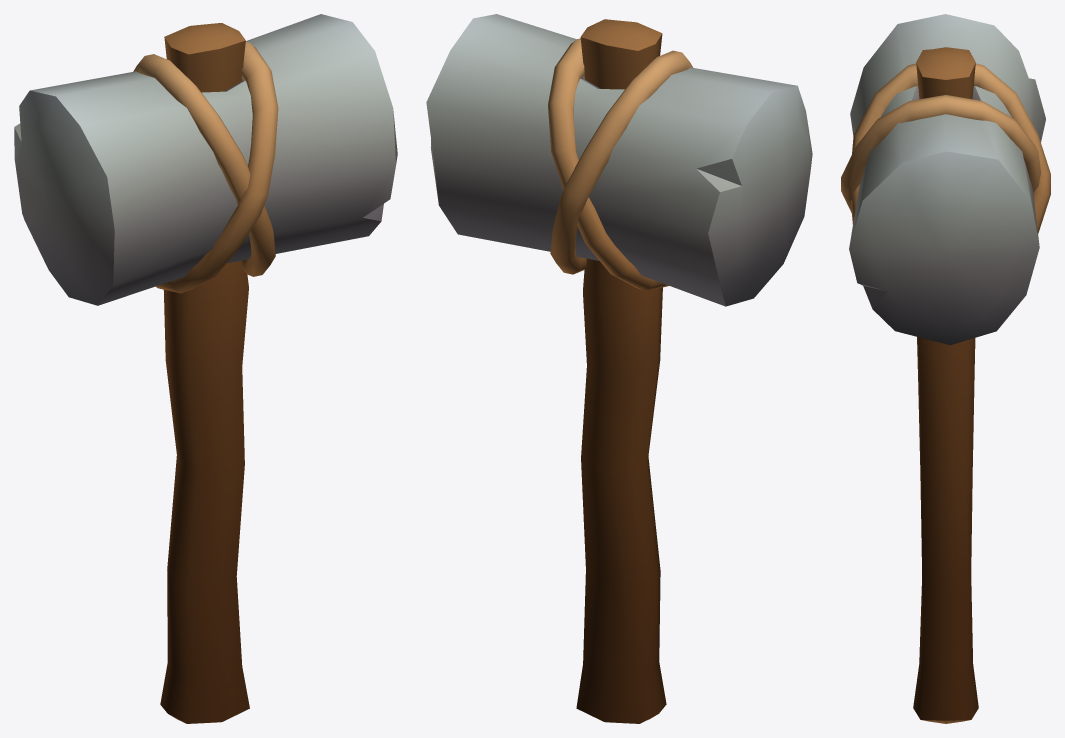
The model's file is Hammer_01.glb.
3 views of the same model, side by side, from view 1: azimuth 30°, elevation 25°; view 2: azimuth 150°, elevation 25°; view 3: azimuth 270°, elevation 25° (orthographic). The views are drawn at different scales.
Parts seen in each view (by area): view 1: Hammer_01; view 2: Hammer_01; view 3: Hammer_01.
Boxes of the visible parts, x1,y1,x2,y2 form: Hammer_01: (14,14,397,723); Hammer_01: (426,14,812,723); Hammer_01: (841,14,1050,723).
Size of the model in its own units: 0.5018 by 1.03 by 0.2976.
1 material, 1 textured.
